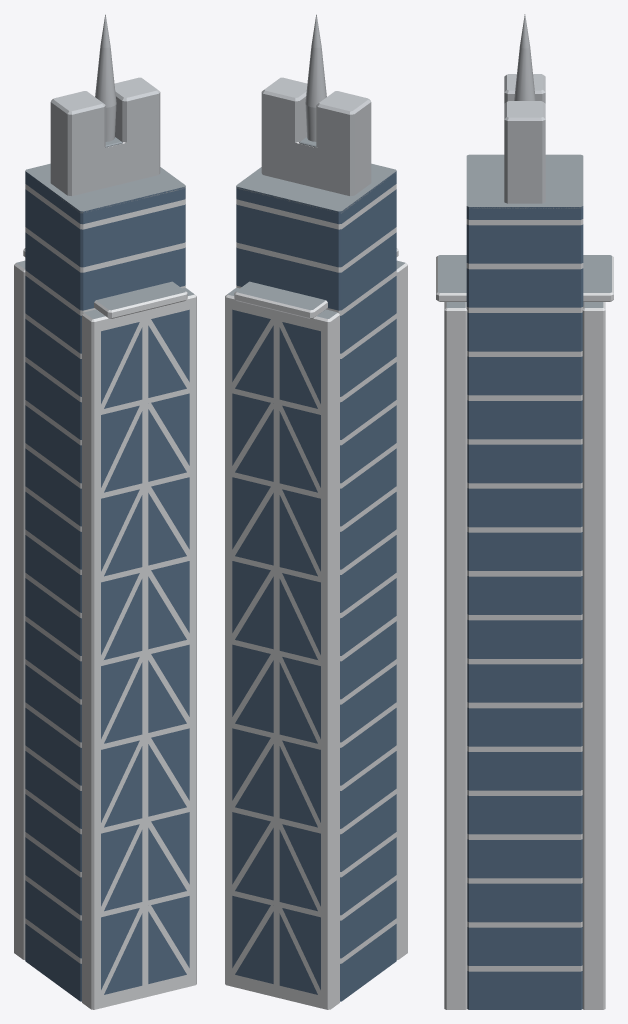
Rendered from dubai-millennium-tower.glb.
3 renders of one model, left to right at view 1: azimuth 30°, elevation 25°; view 2: azimuth 150°, elevation 25°; view 3: azimuth 270°, elevation 25°, orthographic.
Visible parts, largest first — view 1: Millennium Tower; view 2: Millennium Tower; view 3: Millennium Tower.
Boxes of the visible parts, <box> form: Millennium Tower: <box>14,14,196,1009</box>; Millennium Tower: <box>225,14,407,1009</box>; Millennium Tower: <box>436,14,613,1009</box>.
Size of the model in its own units: 33 by 285 by 47.4.
